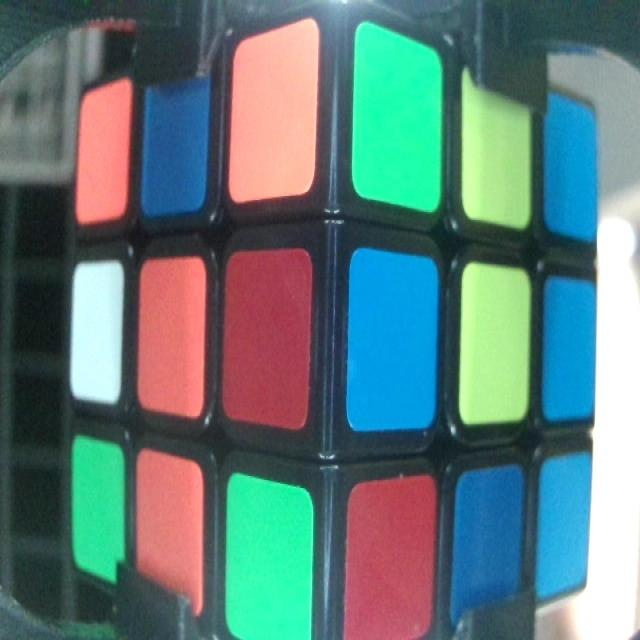b: (352, 266, 436, 413), (460, 479, 521, 592), (147, 84, 205, 195), (546, 106, 597, 229), (547, 284, 592, 412), (543, 464, 587, 586)
g: (357, 48, 438, 186), (227, 502, 311, 628), (78, 468, 124, 566)
o: (138, 459, 202, 601), (235, 55, 310, 175), (140, 268, 202, 403), (80, 100, 127, 202)
r: (227, 268, 308, 406), (349, 505, 435, 624)
w: (74, 271, 120, 396)
y: (464, 93, 534, 217), (463, 280, 528, 413)
